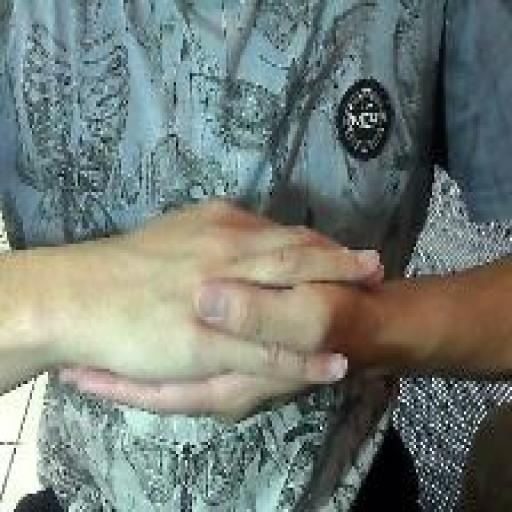Saru -monkey-: (49, 192, 390, 439)
